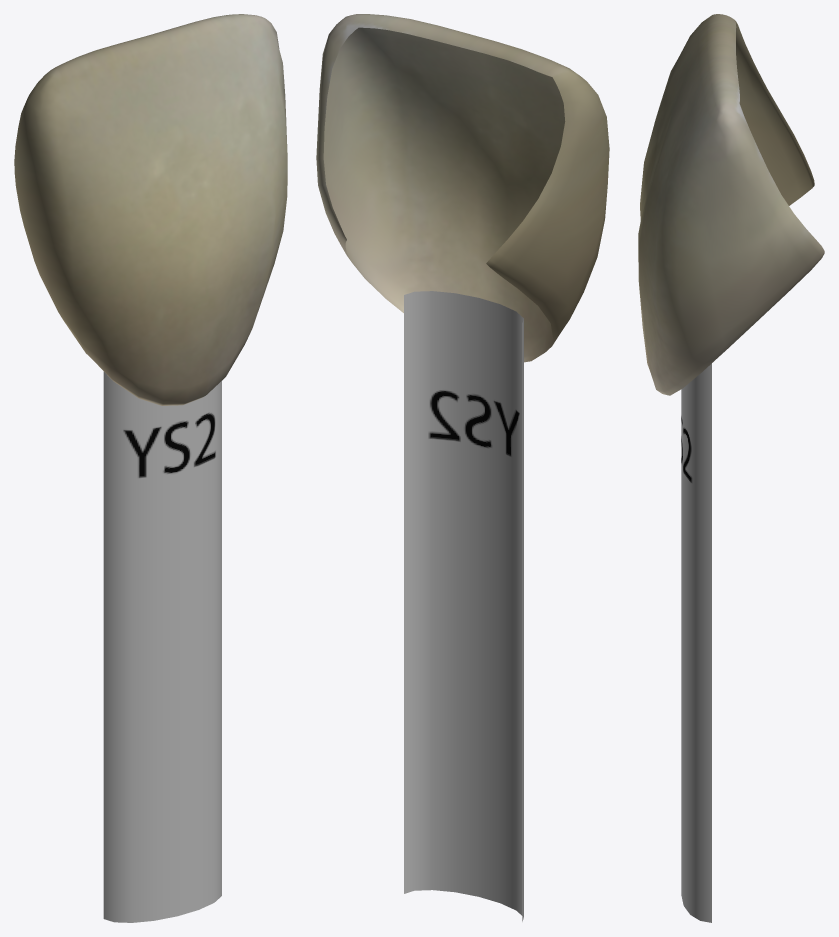
The picture shows the model from 3 angles, left to right: view 1: azimuth 30°, elevation 25°; view 2: azimuth 150°, elevation 25°; view 3: azimuth 270°, elevation 25°; orthographic projection. The views are drawn at different scales.
Parts seen in each view (by area): view 1: Tab; view 2: Tab; view 3: Tab.
Part boxes in pixels (left/top/right/bottom): Tab: left=14, top=14, right=287, bottom=922; Tab: left=316, top=14, right=609, bottom=921; Tab: left=638, top=14, right=824, bottom=922.
Bounding box in the file's own units: 0.00859 × 0.0273 × 0.00547.
1 material, 1 textured.
